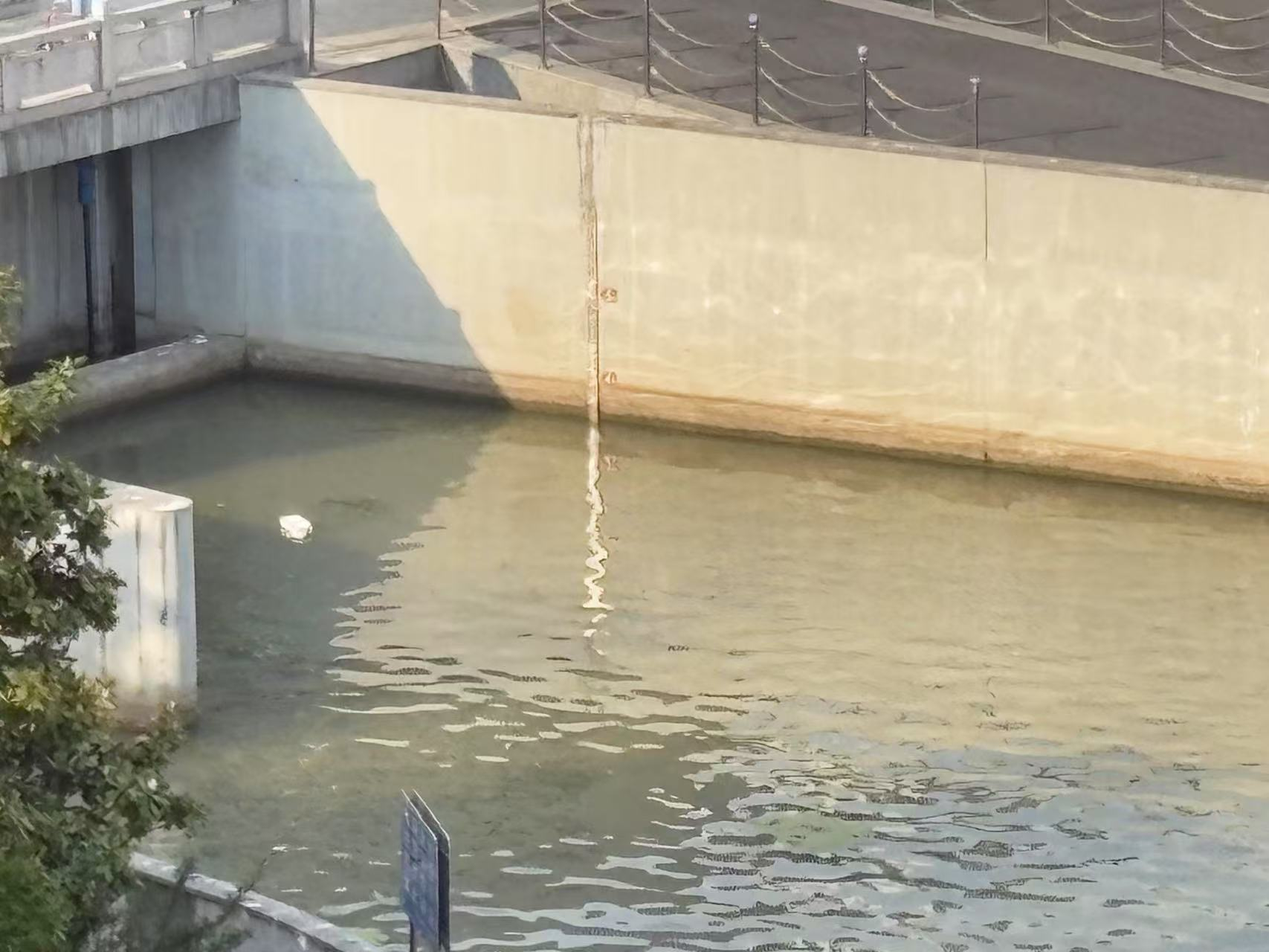Plastic wastes: (277, 510, 315, 545)
